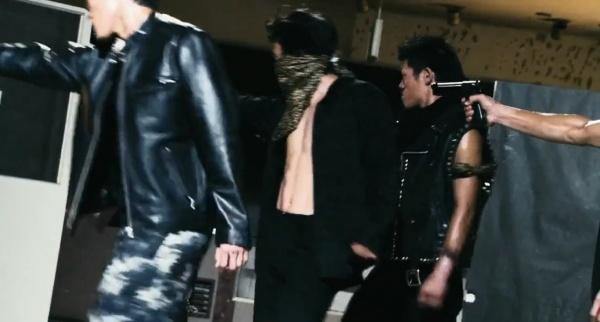Gun: (430, 79, 486, 127)
